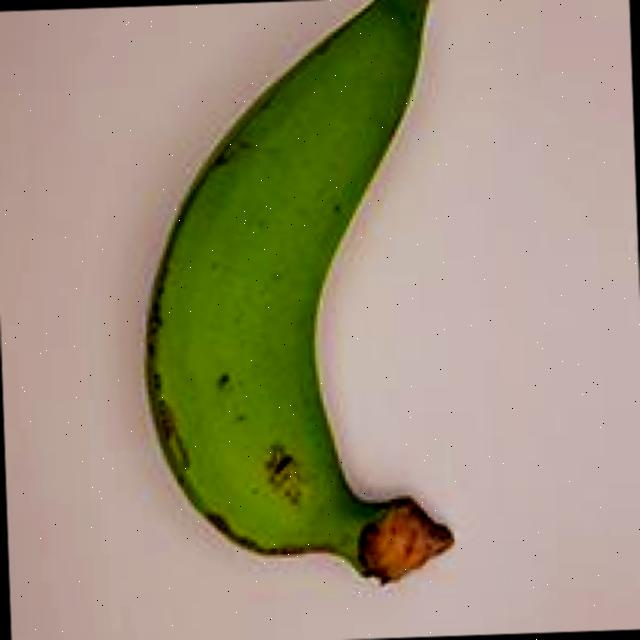Raw: (102, 0, 485, 618)
